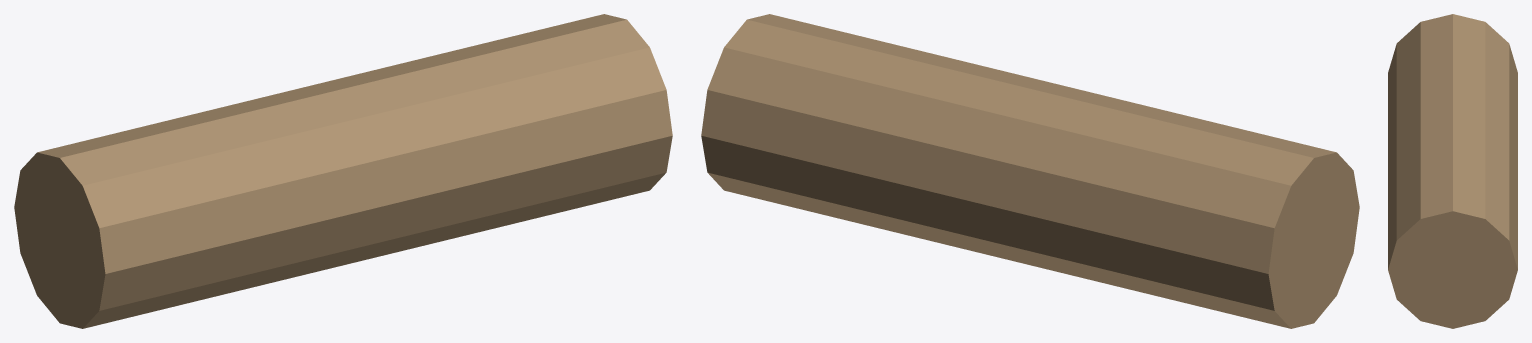
The model's file is mdl_rocks_log_fallen_001.glb.
The picture shows the model from 3 angles, left to right: view 1: azimuth 30°, elevation 25°; view 2: azimuth 150°, elevation 25°; view 3: azimuth 270°, elevation 25°; orthographic projection. The views are drawn at different scales.
Visible parts, largest first — view 1: m_madera; view 2: m_madera; view 3: m_madera.
Part boxes in pixels (x1,y1,x2,y2): m_madera: (14, 14, 672, 328); m_madera: (701, 14, 1359, 328); m_madera: (1388, 14, 1517, 328).
Size of the model in its own units: 1.55 by 0.4304 by 0.4304.
